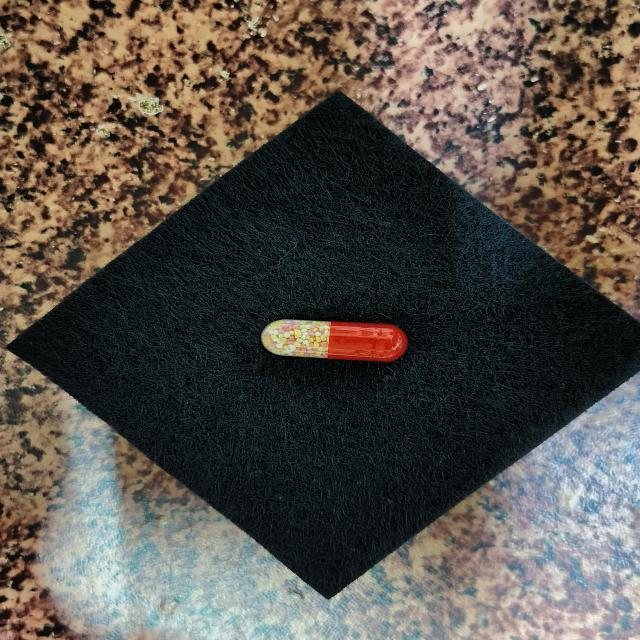Intact Capsule: (261, 319, 407, 361)
